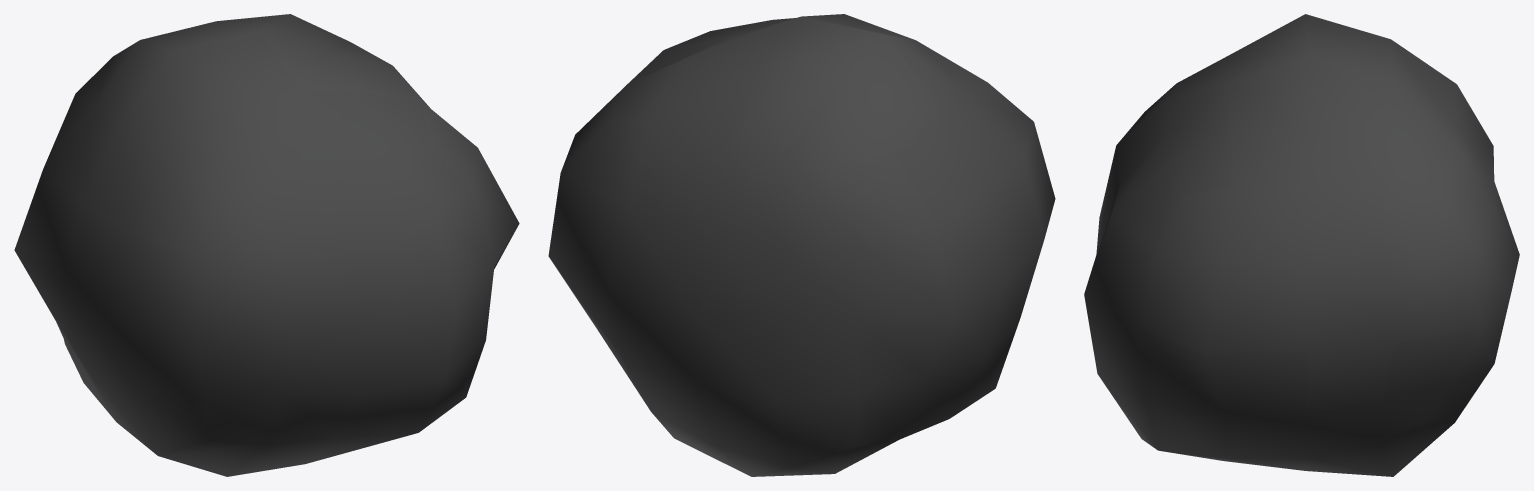
Rendered from Rock type 1.glb.
3 renders of one model, left to right at view 1: azimuth 30°, elevation 25°; view 2: azimuth 150°, elevation 25°; view 3: azimuth 270°, elevation 25°, orthographic. The views are drawn at different scales.
Visible parts, largest first — view 1: Cube.001; view 2: Cube.001; view 3: Cube.001.
Part boxes in pixels (bbox=[...]): Cube.001: bbox=[14, 14, 519, 476]; Cube.001: bbox=[548, 14, 1055, 476]; Cube.001: bbox=[1084, 14, 1519, 476].
Bounding box in the file's own units: 0.2551 × 0.2462 × 0.2418.
Materials: 1 (1 with a texture image).
